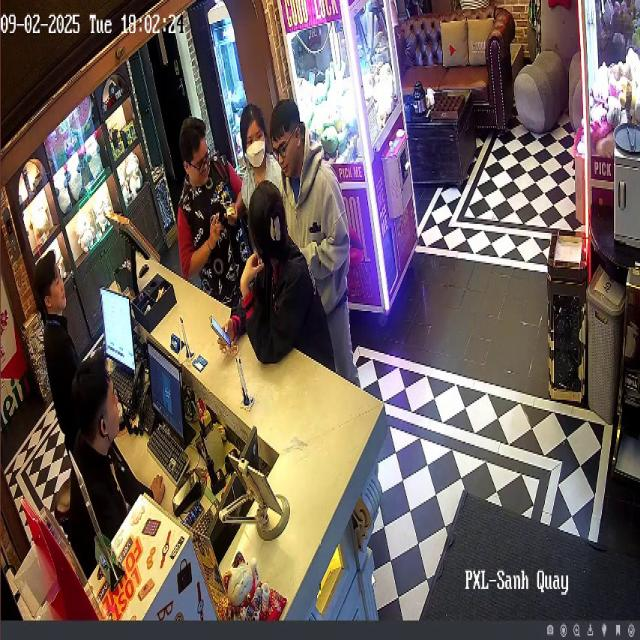khach: (266, 79, 366, 404), (209, 172, 336, 405), (172, 98, 249, 337), (234, 76, 282, 246)
nhan vien: (60, 337, 171, 589), (30, 226, 85, 484)
